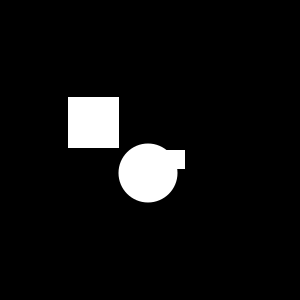circle: (68, 97, 119, 148), (166, 150, 185, 169)
rectangle: (118, 144, 178, 202)
